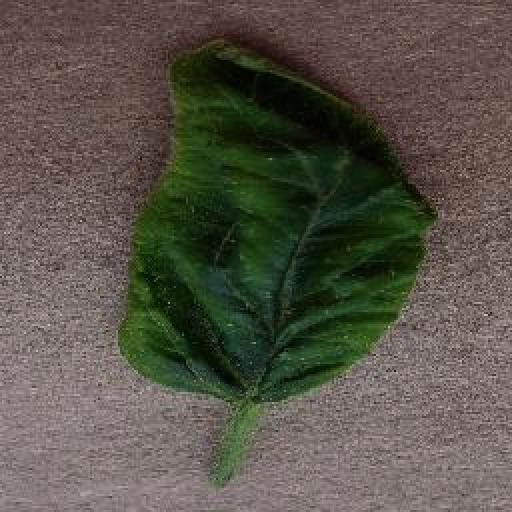disease_tomato: (119, 34, 439, 406)
